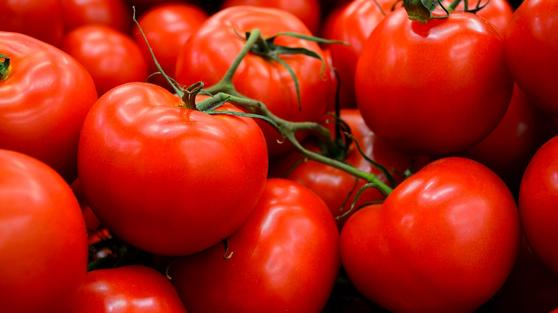tomato: (78, 80, 272, 256), (336, 159, 522, 313)
